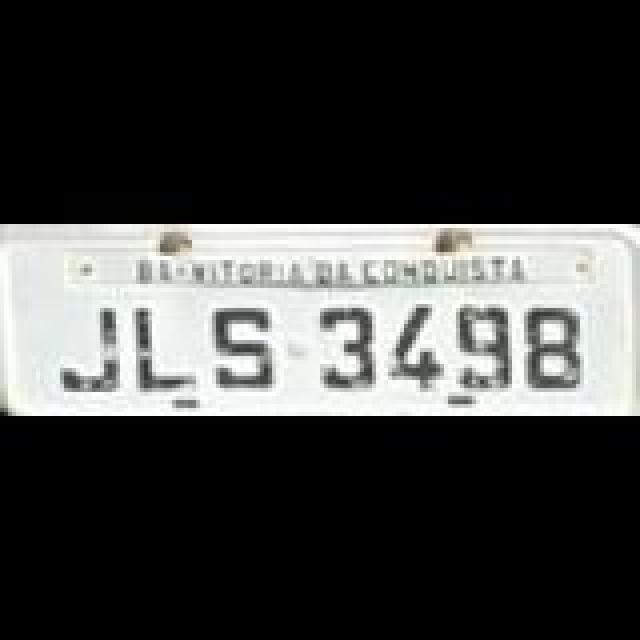3: (314, 298, 374, 390)
4: (386, 298, 446, 390)
8: (520, 304, 584, 392)
9: (456, 298, 512, 390)
J: (56, 306, 120, 398)
L: (132, 300, 204, 396)
S: (212, 304, 276, 392)
